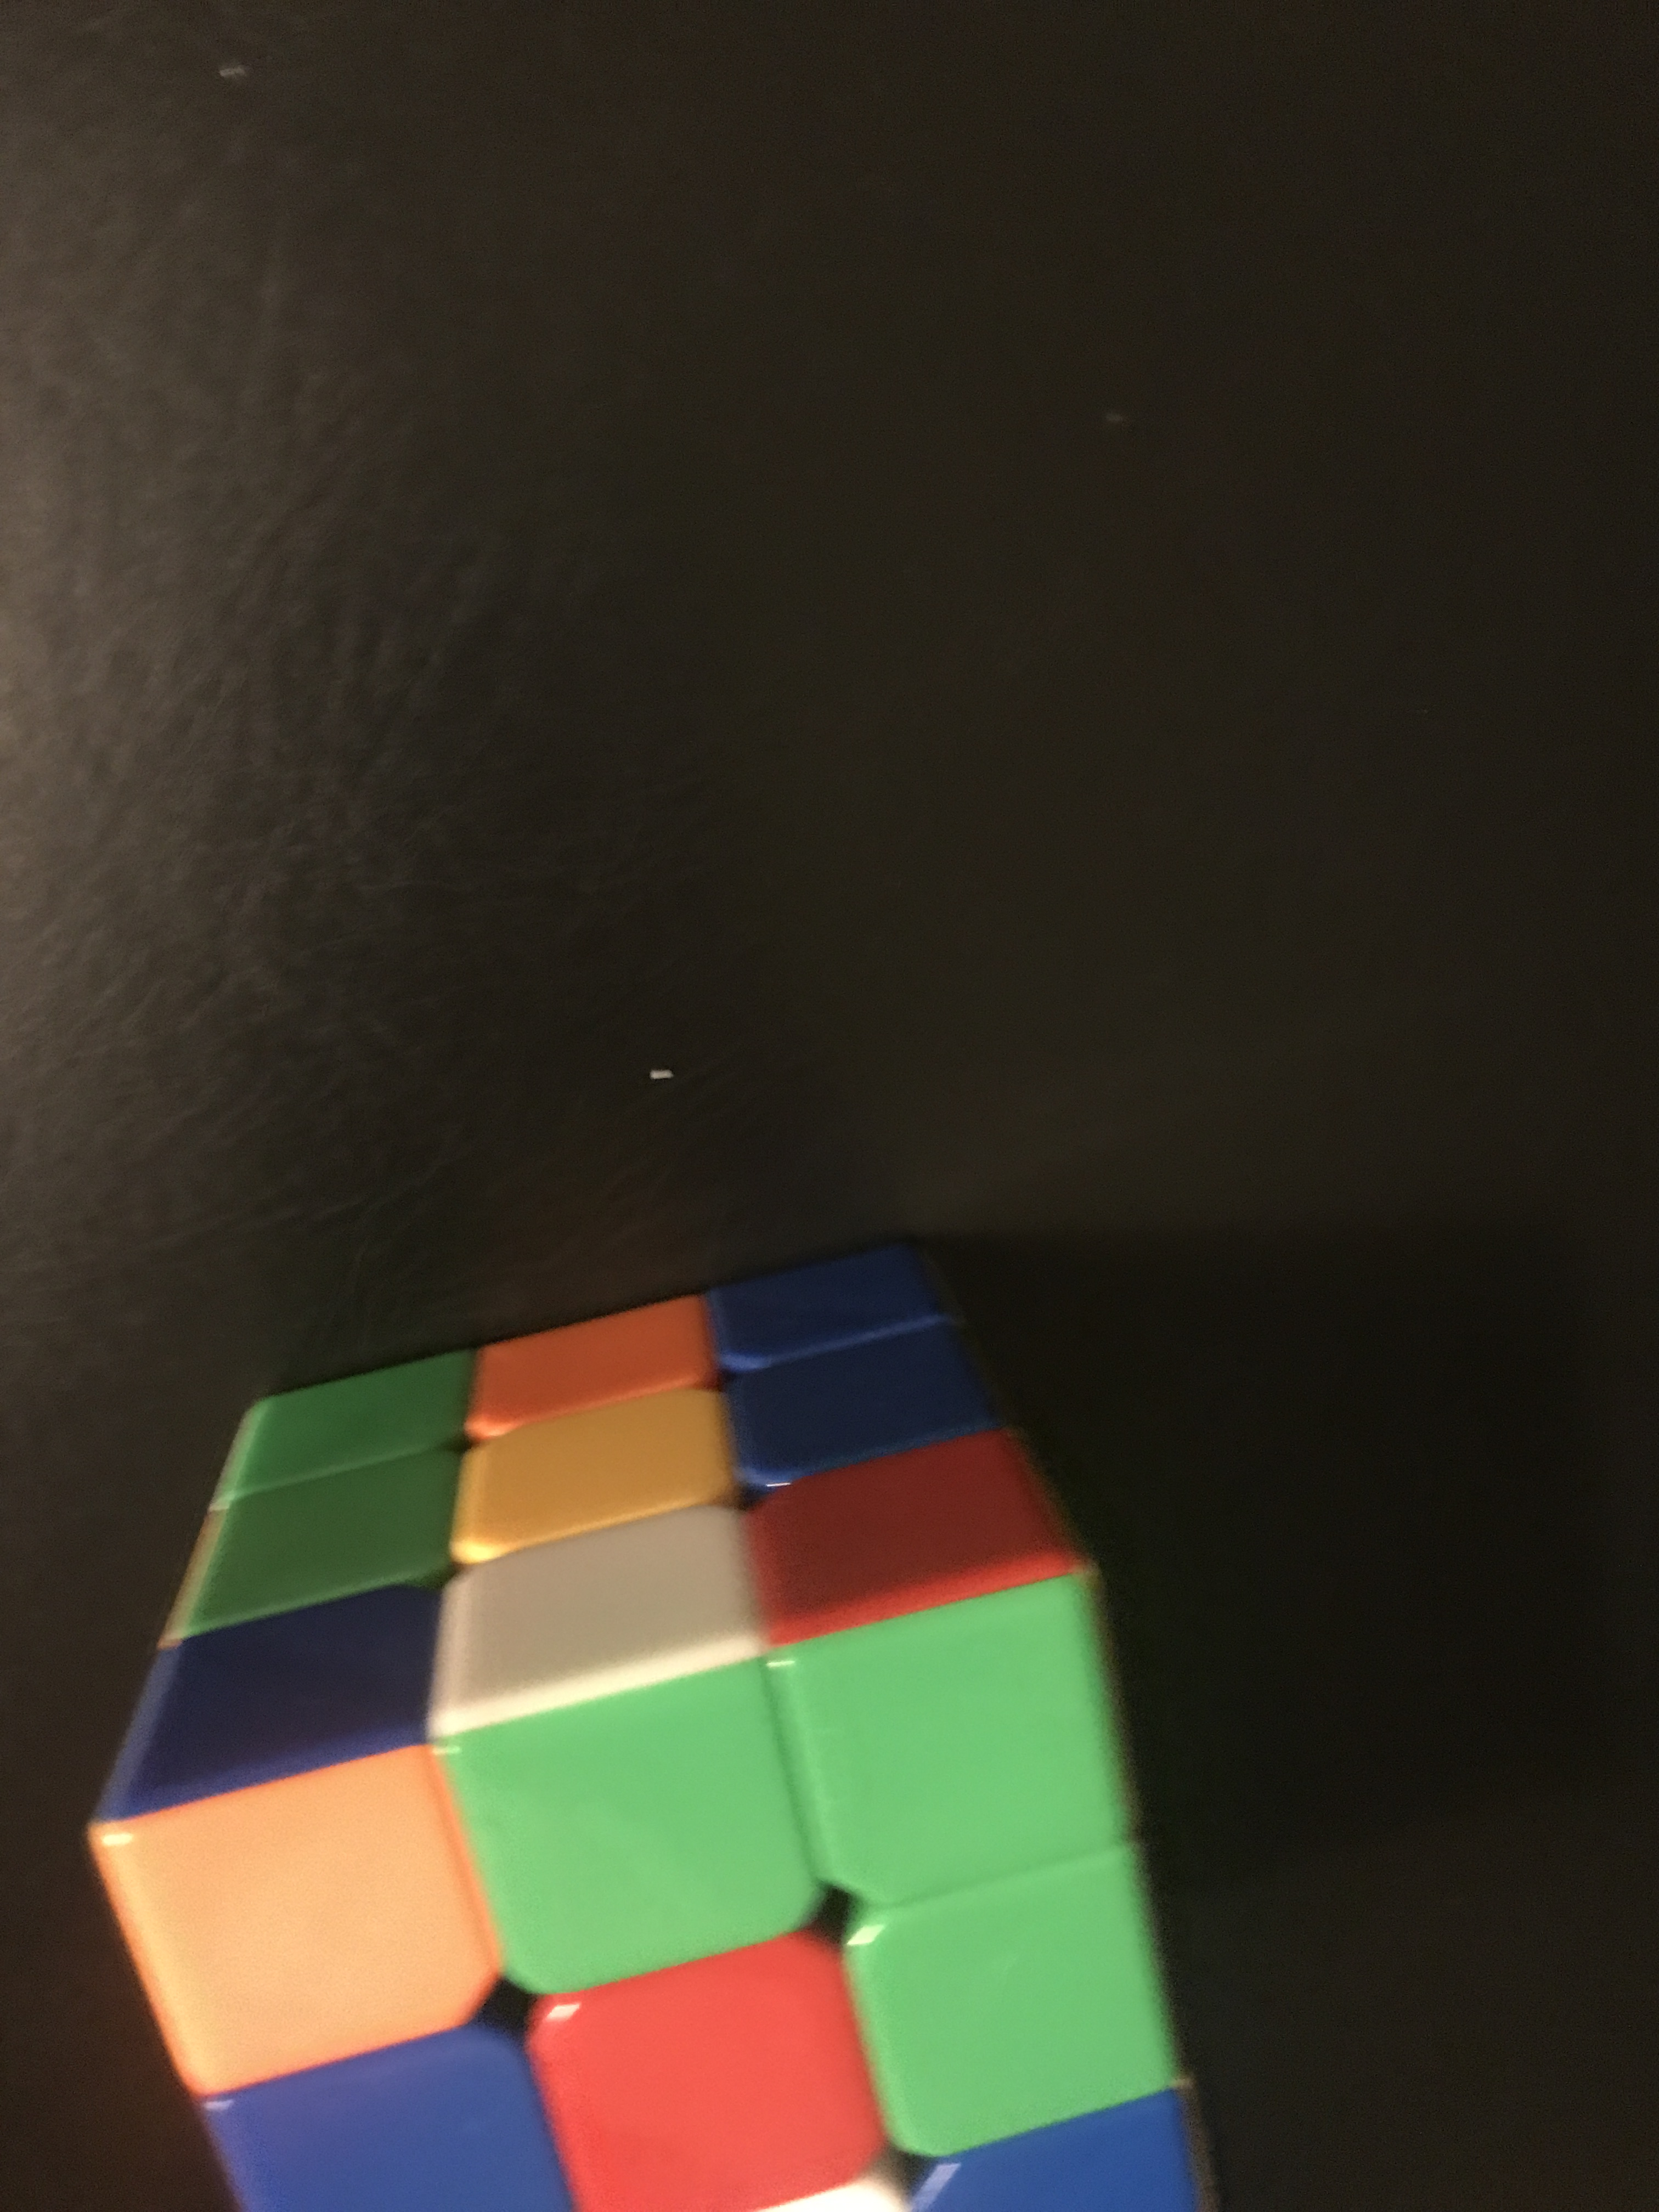rubiks: (89, 1231, 1230, 2212)
